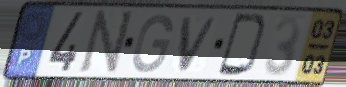3: (263, 14, 305, 78)
4: (46, 9, 84, 74)
D: (215, 12, 270, 79)
G: (130, 12, 175, 75)
N: (76, 8, 137, 77)
V: (177, 15, 222, 74)
